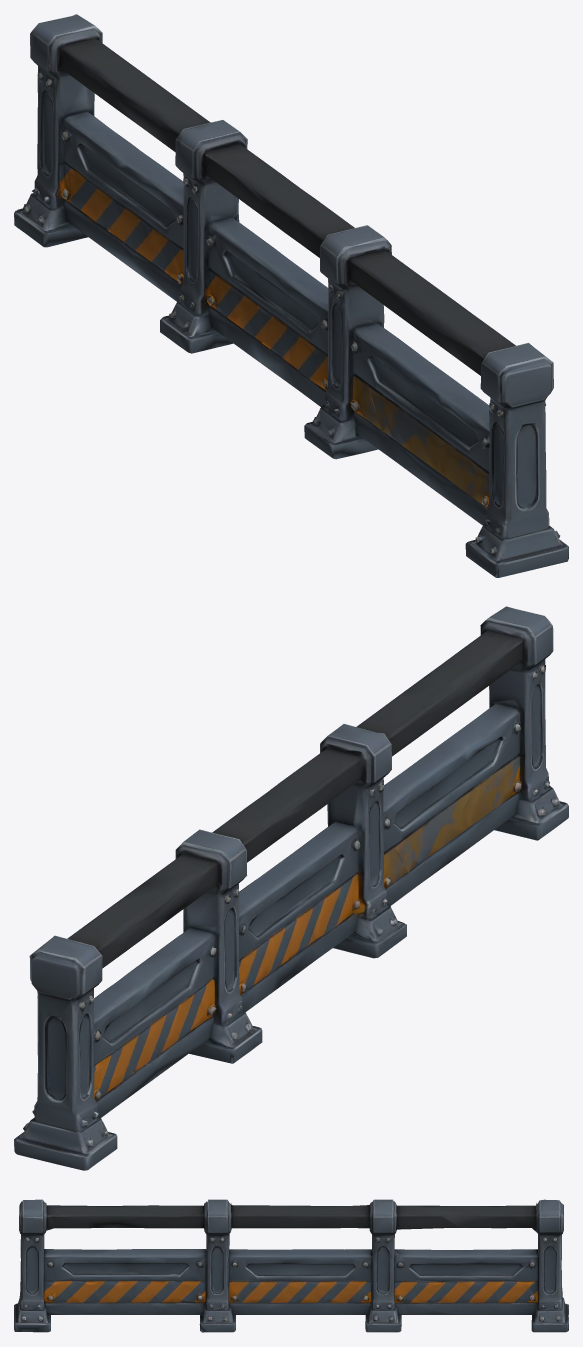
Rendered from rail.glb.
3 views of the same model, one above another, from view 1: azimuth 30°, elevation 25°; view 2: azimuth 150°, elevation 25°; view 3: azimuth 270°, elevation 25° (orthographic). The views are drawn at different scales.
Visible parts, largest first — view 1: tripo_node_1ea296d8-0dbb-4775-8766-d8e39c7651a3; view 2: tripo_node_1ea296d8-0dbb-4775-8766-d8e39c7651a3; view 3: tripo_node_1ea296d8-0dbb-4775-8766-d8e39c7651a3.
Boxes of the visible parts, <box> form: tripo_node_1ea296d8-0dbb-4775-8766-d8e39c7651a3: <box>14,14,568,577</box>; tripo_node_1ea296d8-0dbb-4775-8766-d8e39c7651a3: <box>14,606,568,1170</box>; tripo_node_1ea296d8-0dbb-4775-8766-d8e39c7651a3: <box>14,1199,568,1332</box>.
Size of the model in its own units: 0.0876 by 0.2285 by 0.9792.
Materials: 1 (1 with a texture image).
